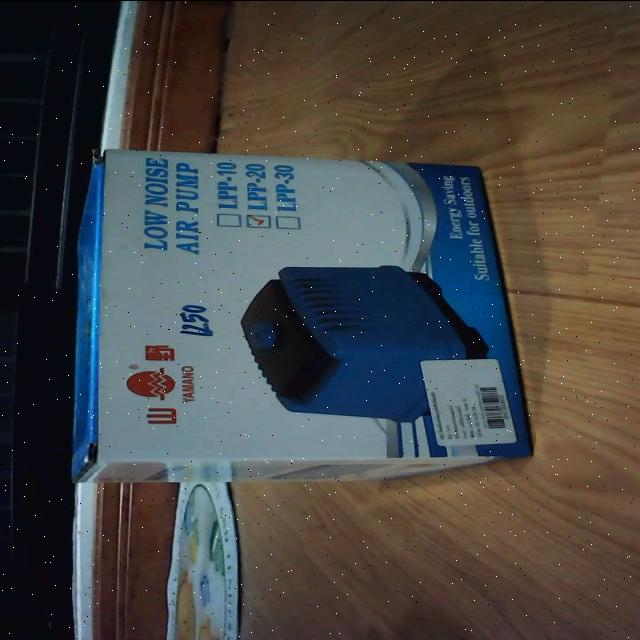YAMANO_LPP_20: (44, 144, 540, 488)
